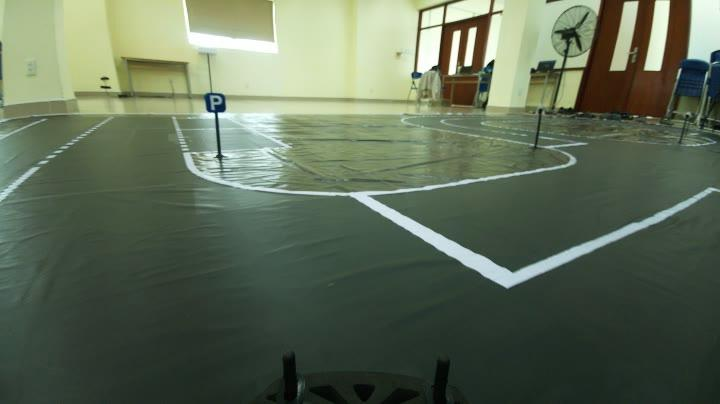parking: (197, 86, 229, 117)
